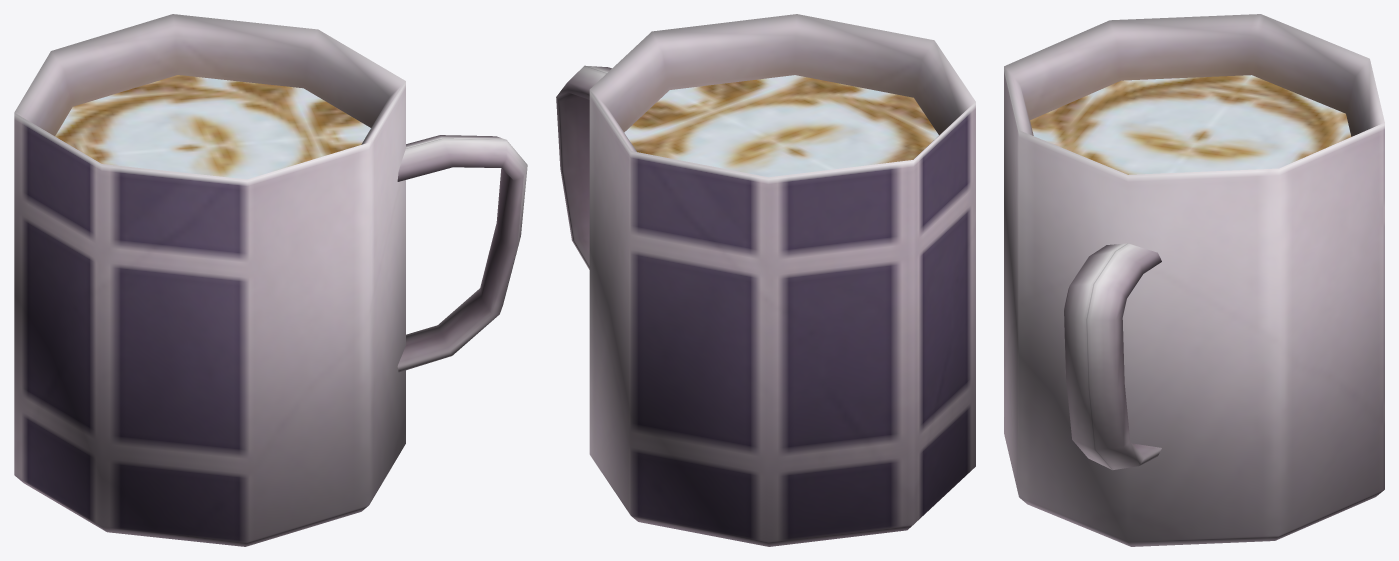
The model's file is XiuXiShi_01_beizii_02.FBX.
The picture shows the model from 3 angles, left to right: view 1: azimuth 30°, elevation 25°; view 2: azimuth 150°, elevation 25°; view 3: azimuth 270°, elevation 25°; orthographic projection.
Parts seen in each view (by area): view 1: XiuXiShi_beizi_02; view 2: XiuXiShi_beizi_02; view 3: XiuXiShi_beizi_02.
Boxes of the visible parts, x1,y1,x2,y2 form: XiuXiShi_beizi_02: (14,14,527,546); XiuXiShi_beizi_02: (556,14,975,546); XiuXiShi_beizi_02: (1004,14,1384,546).
Size of the model in its own units: 72.43 by 60.17 by 55.25.
